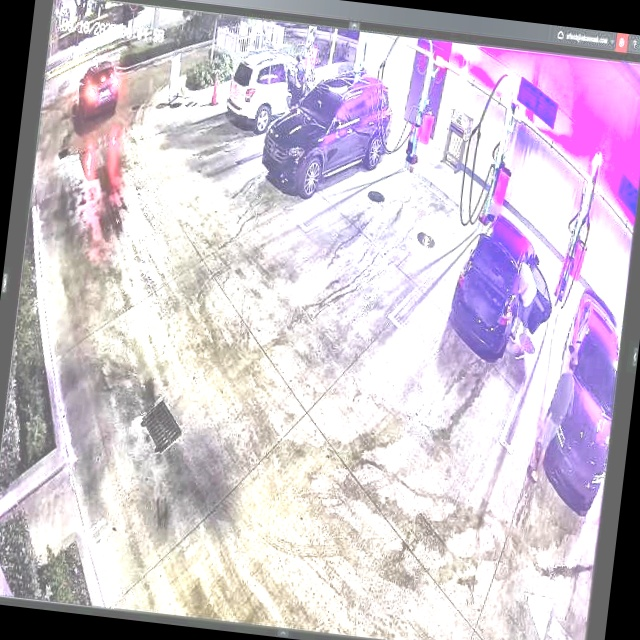Car: (258, 60, 399, 209), (443, 206, 562, 369)
